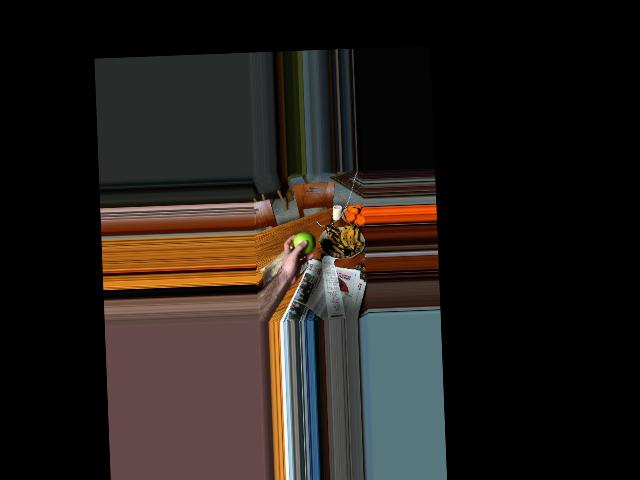apple: (292, 231, 315, 256)
